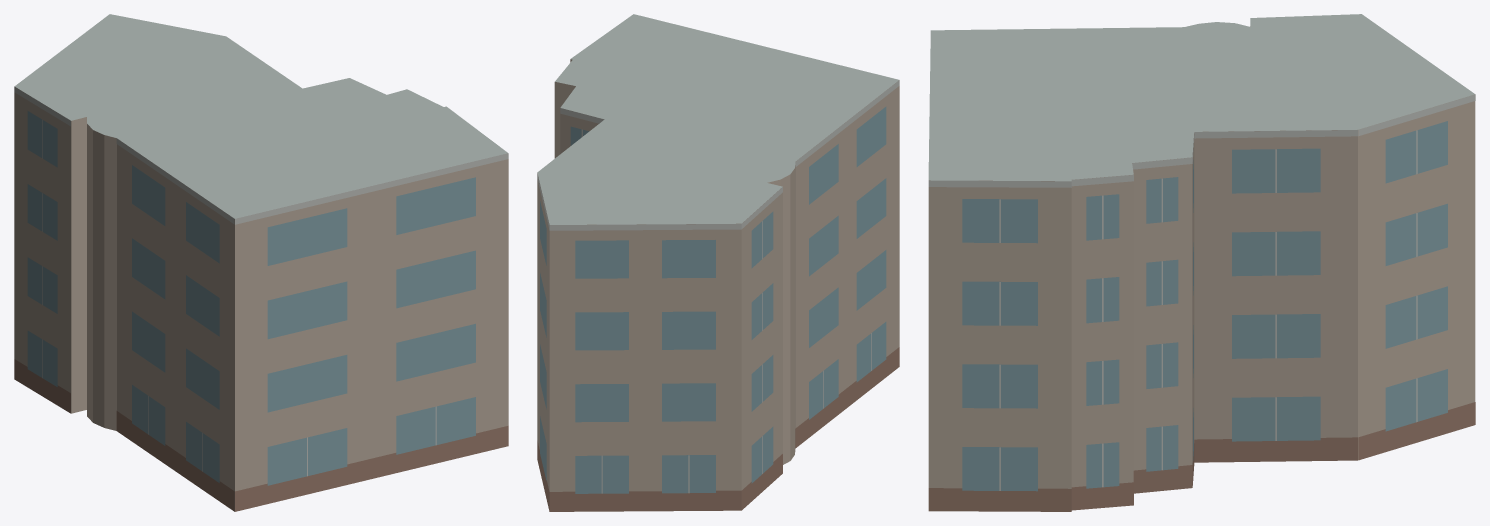
File: survey-upis-32652541.glb
3 views of the same model, side by side, from view 1: azimuth 30°, elevation 25°; view 2: azimuth 150°, elevation 25°; view 3: azimuth 270°, elevation 25° (orthographic). The views are drawn at different scales.
Visible parts, largest first — view 1: survey-upis-32652541.tmp; view 2: survey-upis-32652541.tmp; view 3: survey-upis-32652541.tmp.
Part boxes in pixels (<box>): survey-upis-32652541.tmp: <box>14,14,508,511</box>; survey-upis-32652541.tmp: <box>537,14,899,511</box>; survey-upis-32652541.tmp: <box>928,14,1475,511</box>.
Size of the model in its own units: 13.24 by 12.2 by 18.3.
